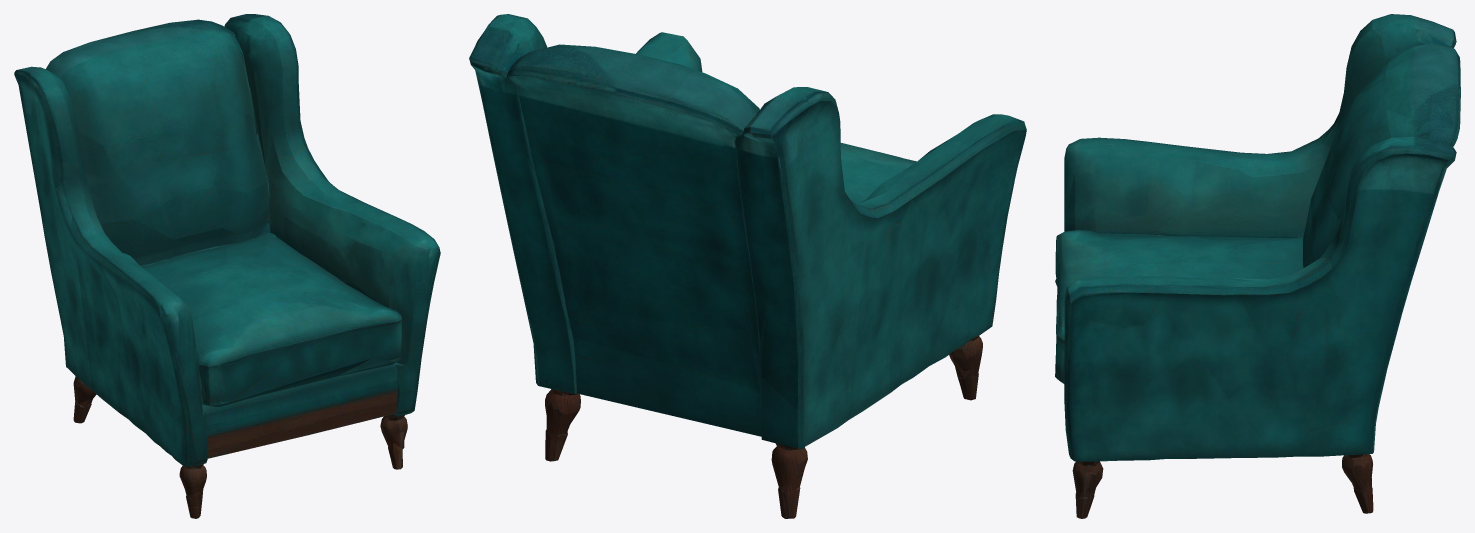
File: armchair.glb
3 renders of one model, left to right at view 1: azimuth 30°, elevation 25°; view 2: azimuth 150°, elevation 25°; view 3: azimuth 270°, elevation 25°, orthographic. The views are drawn at different scales.
Bounding box in the file's own units: 0.8965 × 1.05 × 1.
Materials: 1 (1 with a texture image).
